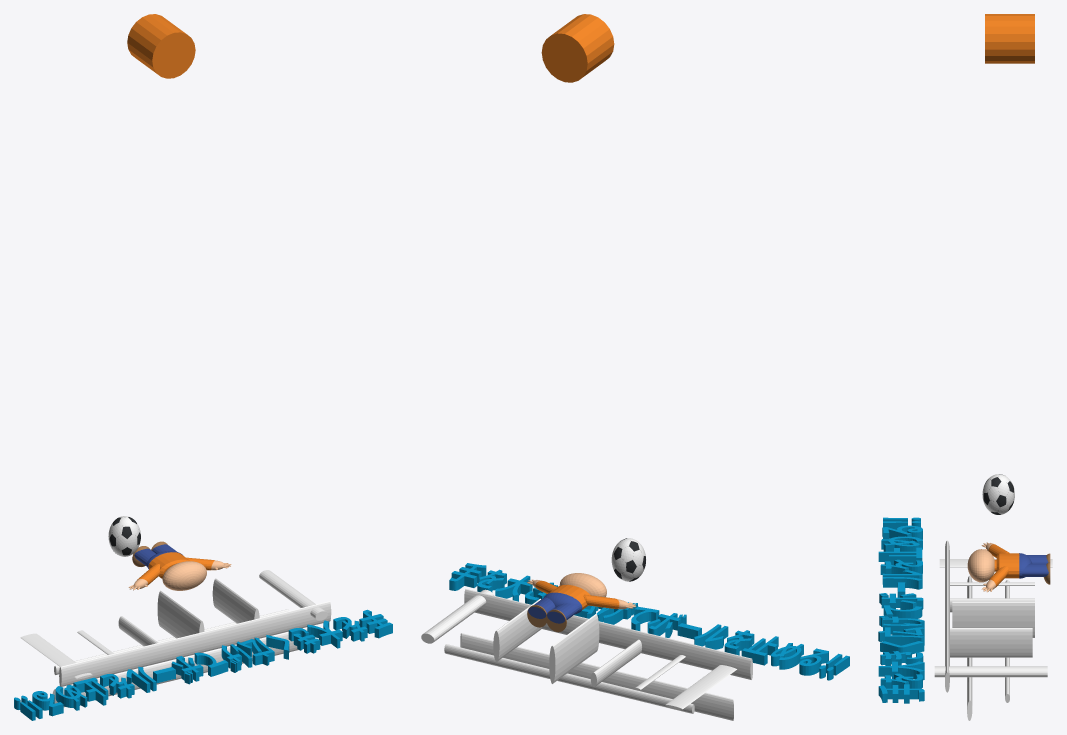
Rendered from tinker.obj.
3 renders of one model, left to right at view 1: azimuth 30°, elevation 25°; view 2: azimuth 150°, elevation 25°; view 3: azimuth 270°, elevation 25°, orthographic. The views are drawn at different scales.
Visible parts, largest first — view 1: group_0_16448250, group_0_40919, group_0_16089887, group_0_16500122; view 2: group_0_16448250, group_0_40919, group_0_16089887, group_0_3888547, group_0_16500122; view 3: group_0_16448250, group_0_40919, group_0_16089887, group_0_16500122, group_0_3888547, group_0_2829873.
Part boxes in pixels (x1,y1,x2,y2): group_0_16448250: (20,516,331,707); group_0_40919: (14,609,392,720); group_0_16089887: (127,14,214,585); group_0_16500122: (128,560,231,590); group_0_16448250: (421,538,752,720); group_0_40919: (449,563,849,680); group_0_16089887: (535,14,619,609); group_0_3888547: (528,592,582,623); group_0_16500122: (527,573,635,609); group_0_16448250: (934,474,1052,720); group_0_40919: (878,517,924,703); group_0_16089887: (985,14,1034,587); group_0_16500122: (967,542,995,592); group_0_3888547: (1019,553,1048,578); group_0_2829873: (983,474,1013,514).
Bounding box in the file's own units: 167 × 282 × 69.53.
